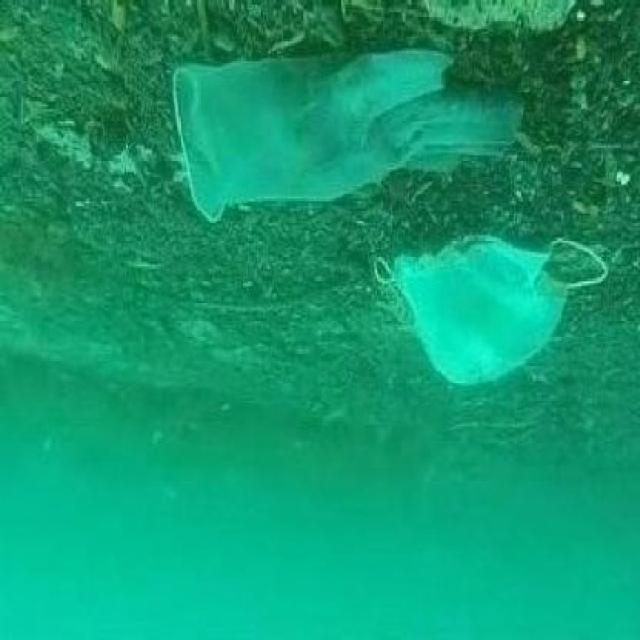Mask: (366, 238, 614, 393)
glove: (174, 48, 528, 208)
